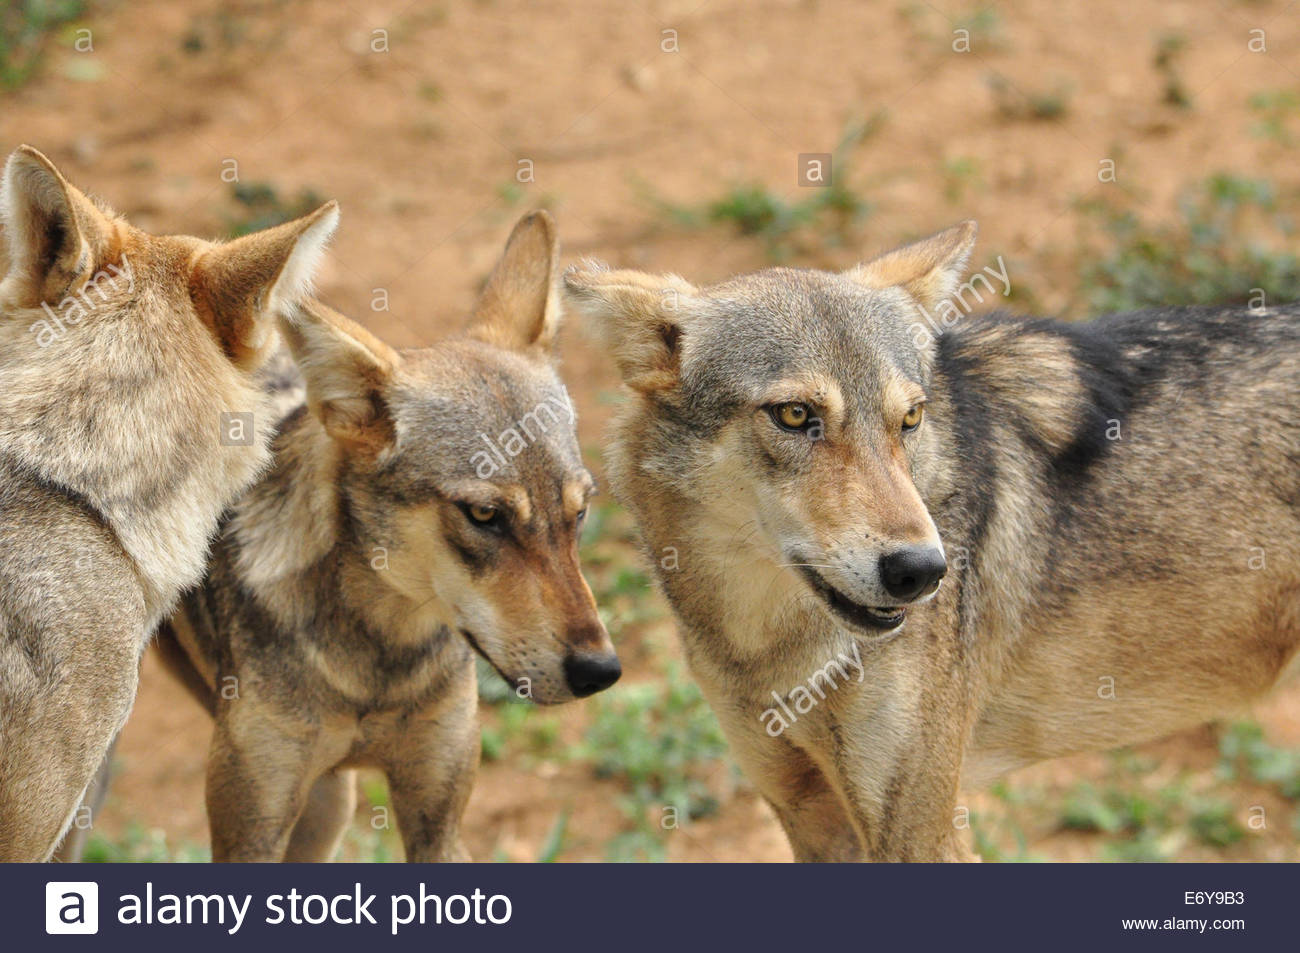dog: (592, 225, 1300, 864), (92, 201, 643, 860), (1, 176, 349, 831)
